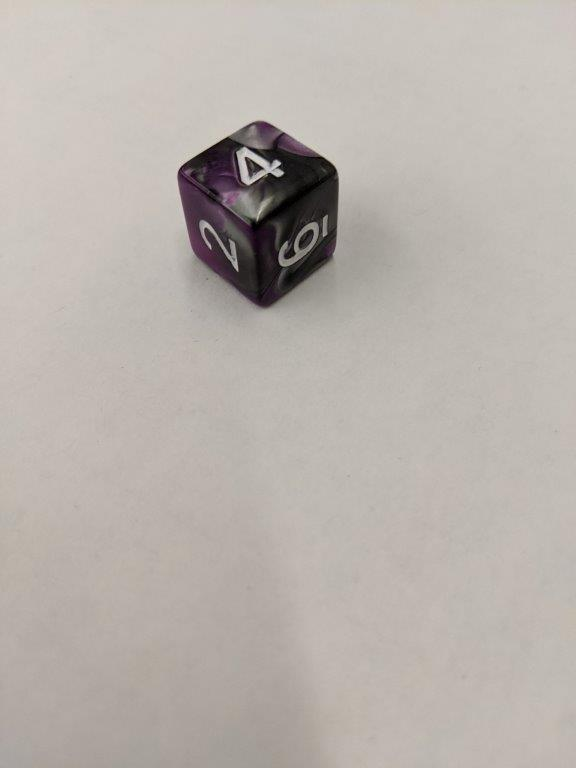d6-4: (178, 117, 339, 310)
